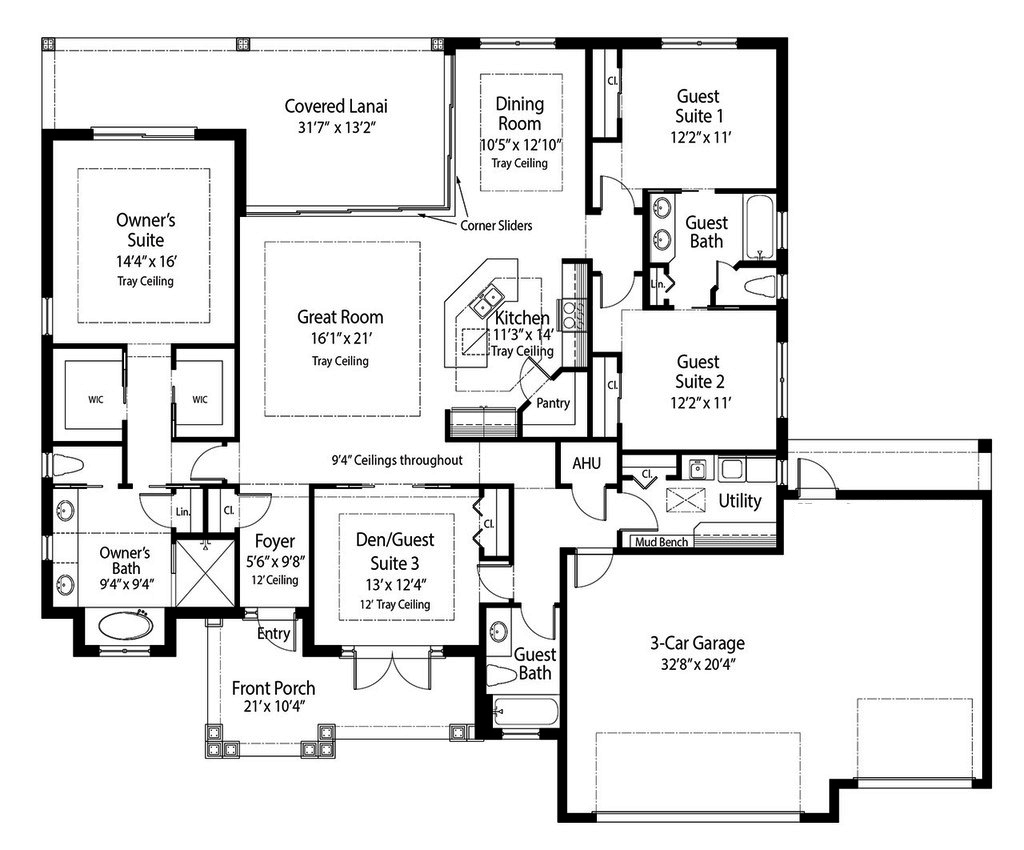door: (347, 645, 432, 692), (617, 491, 665, 533), (597, 170, 638, 217), (516, 602, 559, 645), (515, 358, 554, 402), (230, 487, 274, 525), (594, 269, 639, 305), (567, 483, 608, 521), (473, 559, 511, 600), (575, 549, 611, 591), (135, 487, 170, 529), (188, 442, 227, 478)
large_sink: (47, 449, 86, 482), (738, 270, 776, 300), (488, 660, 519, 690)
sink: (649, 185, 682, 266)
small_sink: (43, 561, 80, 609), (651, 195, 677, 263), (52, 487, 80, 530)
tub: (80, 605, 169, 647), (740, 192, 775, 259), (492, 692, 564, 724)
twin_sink: (468, 281, 504, 318)
windows: (93, 124, 196, 141), (772, 337, 790, 426), (482, 35, 558, 52), (658, 37, 739, 48), (39, 296, 55, 334)
